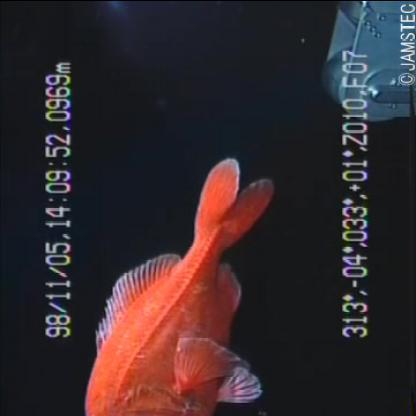Rov: (310, 2, 415, 126)
